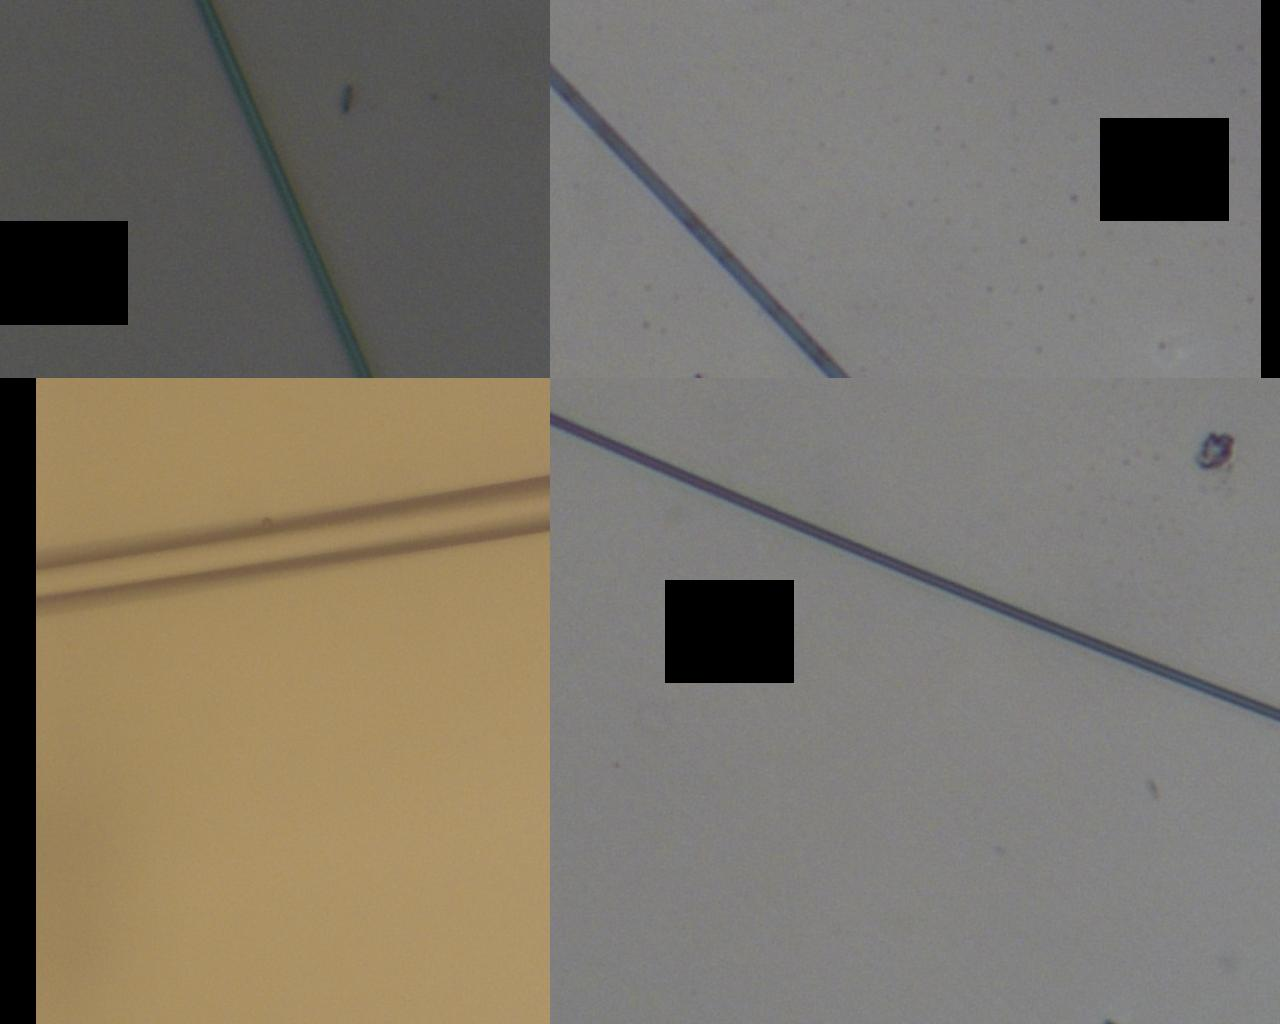fiber: (665, 338, 1280, 768), (287, 338, 665, 1024), (798, 0, 910, 338), (108, 0, 210, 338)
